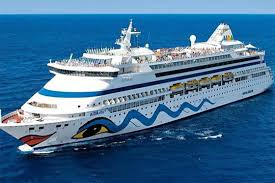tau_dansu: (6, 39, 275, 143)
